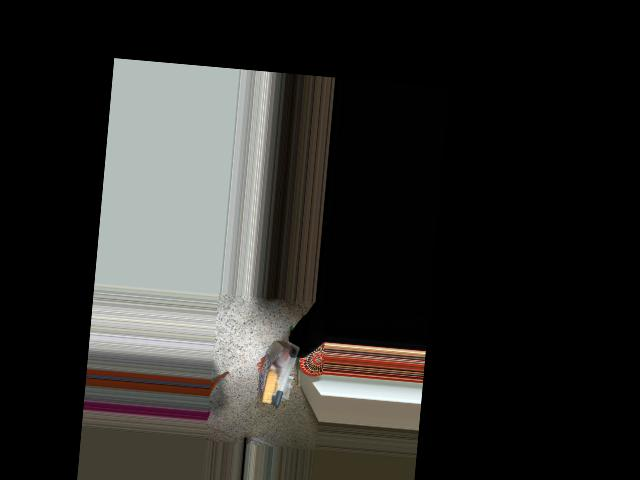cheese: (255, 339, 302, 409)
